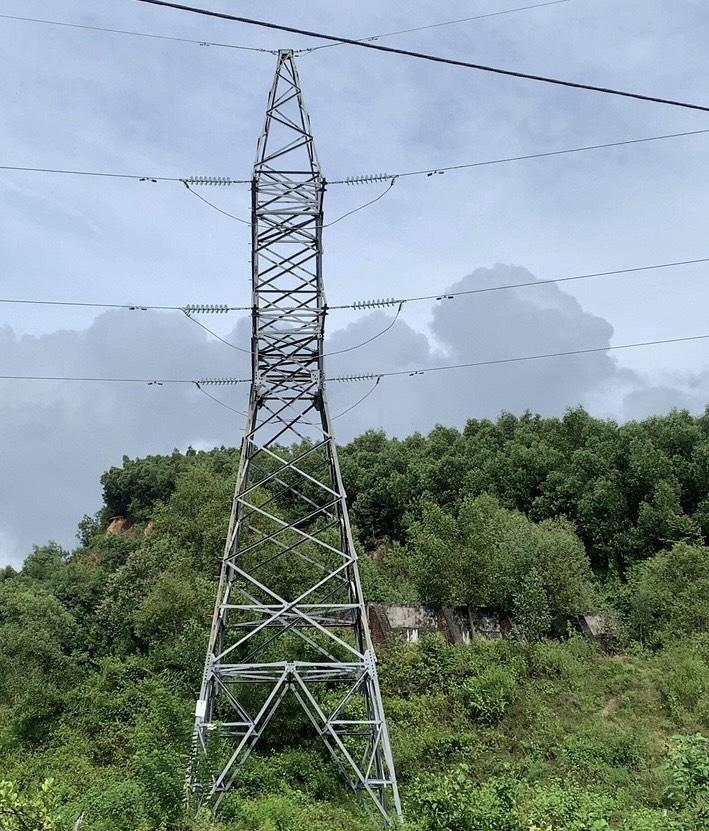power_tower: (188, 38, 401, 825)
